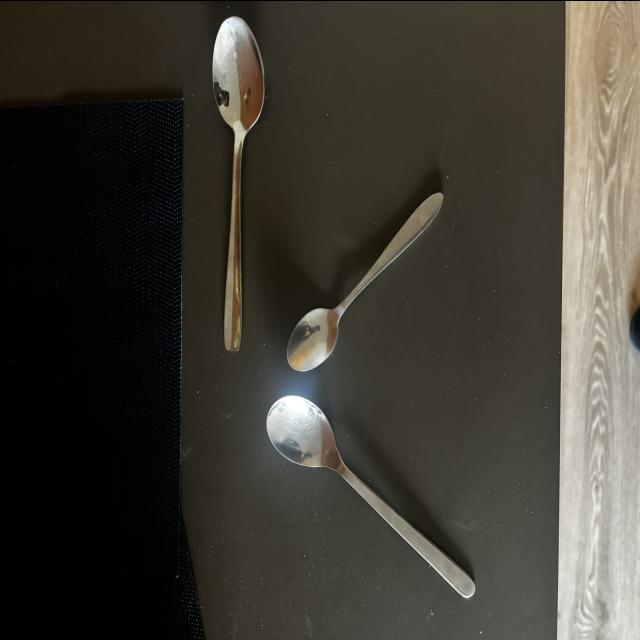spoon: (267, 395, 479, 602), (287, 186, 449, 374), (215, 10, 268, 351)
